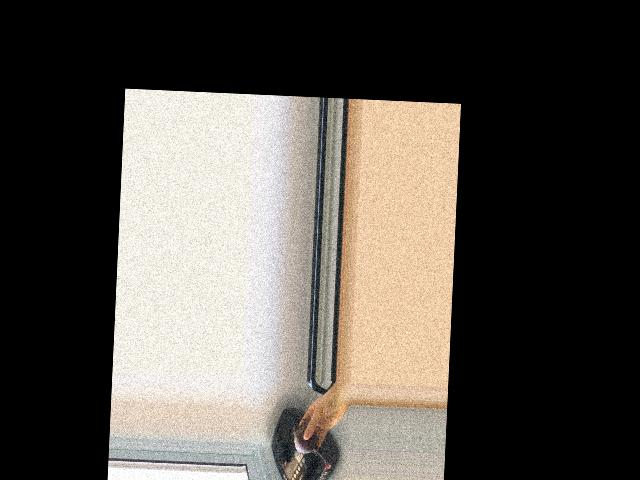beet: (291, 418, 329, 465)
